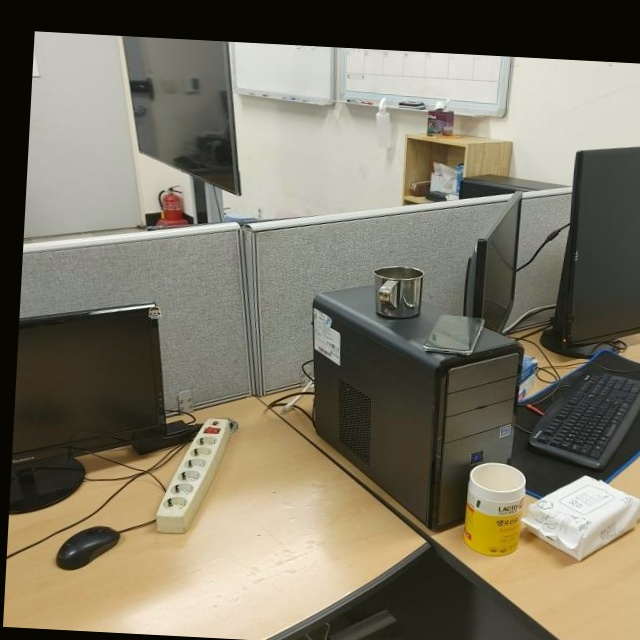cup: (369, 261, 424, 322)
phone: (421, 309, 486, 358)
